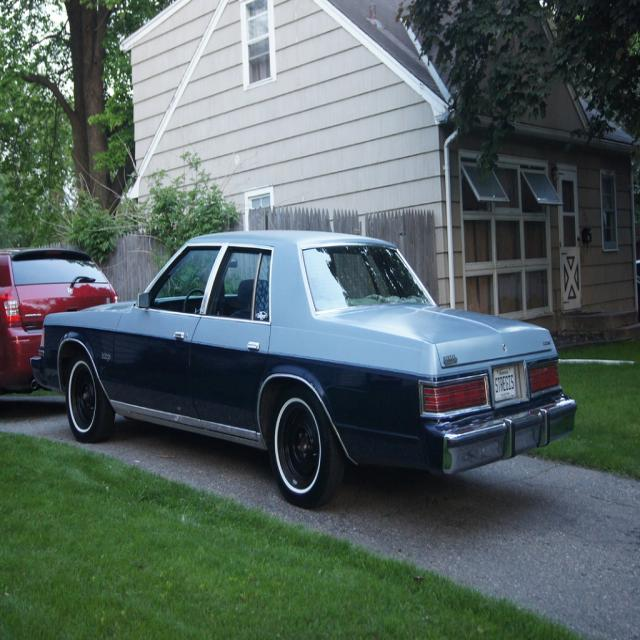car: (28, 219, 573, 505)
